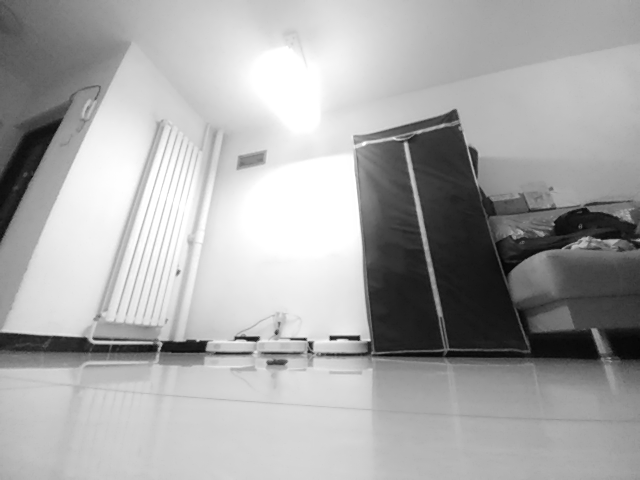pet feces: (265, 356, 289, 367)
